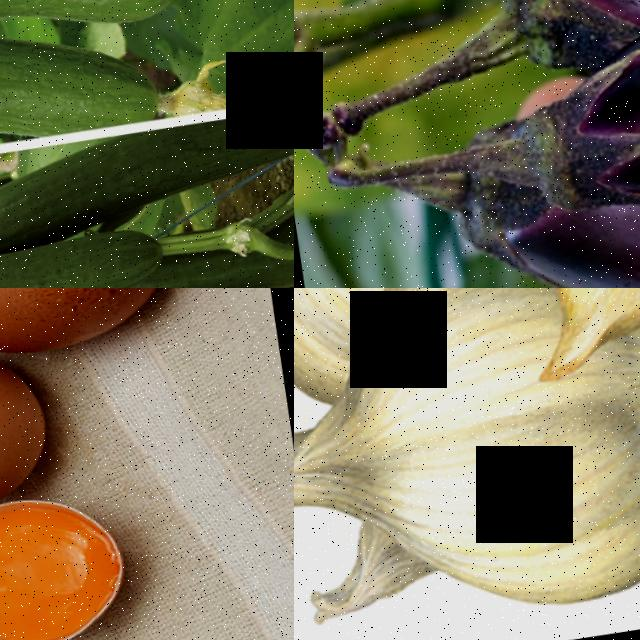cucumber: (0, 94, 294, 254), (0, 217, 170, 288), (0, 9, 66, 171)
egg_: (0, 491, 134, 640), (0, 288, 187, 375), (0, 320, 57, 538)
eggplant: (511, 0, 640, 228), (440, 154, 640, 288)
garlic: (294, 311, 640, 640)
